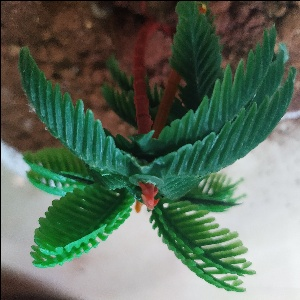plant: (4, 12, 299, 287)
